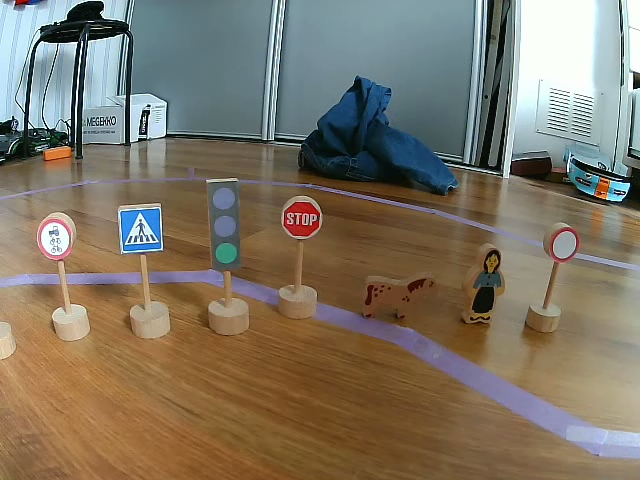fietspad: (37, 217, 73, 261)
groenlicht: (208, 178, 242, 272)
mens: (457, 246, 505, 325)
paard: (357, 275, 438, 320)
stopbord: (282, 198, 322, 240)
wegdicht: (549, 228, 580, 262)
zebrapad: (118, 205, 163, 255)
